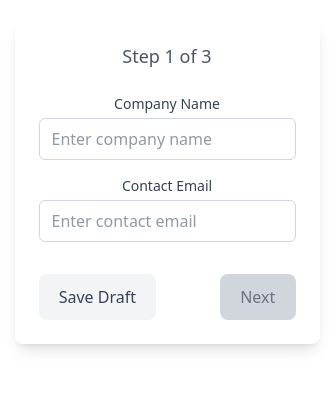
Test case: Feature: Maritime Insurance Quote Request Wizard Step 1 Component › Scenario: Save draft functionality › should show draft saved message after saving
Type "Atlantic Vessels Inc" into the field with test id "company-name" at [167, 139], box x1=38 y1=118 x2=296 y2=160
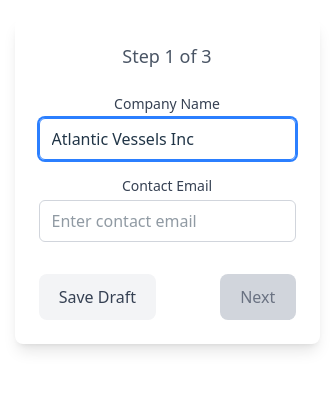
Type "info@atlanticvessels.com" into the field with test id "contact-email" at [167, 221], box x1=38 y1=200 x2=296 y2=242
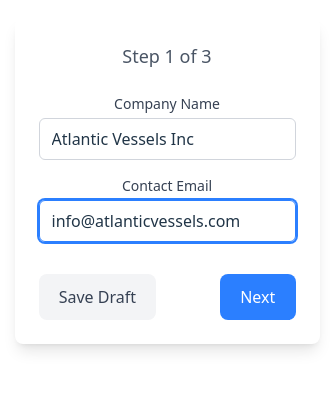
Click the button with test id "save-draft-button" at [97, 297], box x1=38 y1=274 x2=156 y2=320
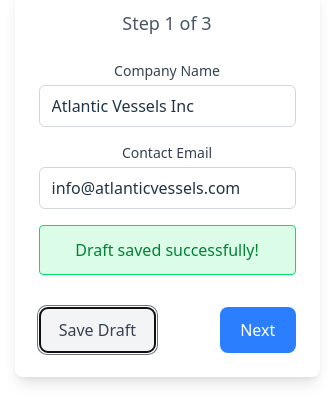
Check: the message "Draft saved successfully!" is shown, box x1=38 y1=225 x2=296 y2=275
